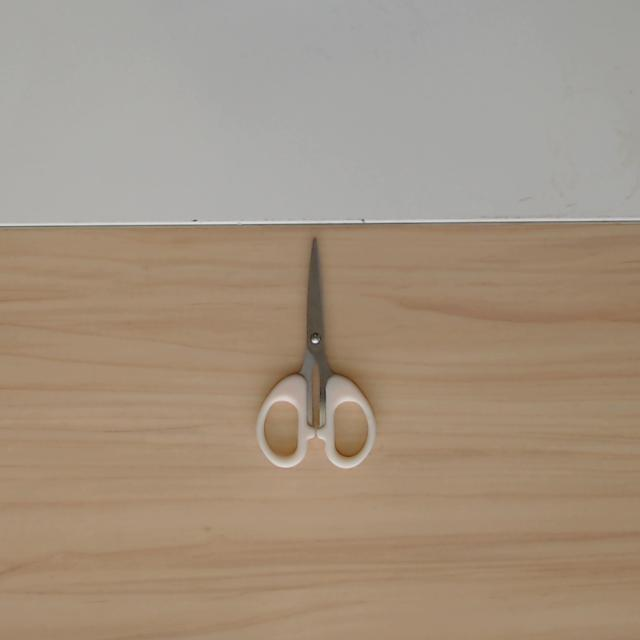Gunting: (204, 237, 387, 493)
